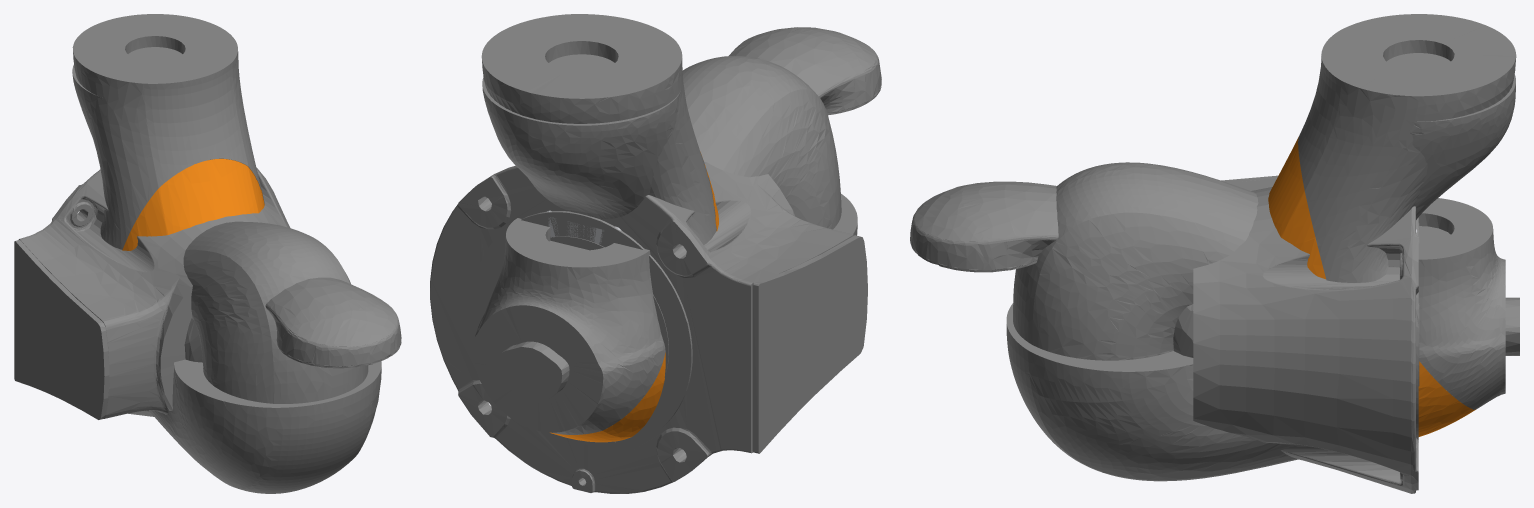
The model's file is arm.glb.
3 renders of one model, left to right at view 1: azimuth 30°, elevation 25°; view 2: azimuth 150°, elevation 25°; view 3: azimuth 270°, elevation 25°, orthographic. The views are drawn at different scales.
Parts seen in each view (by area): view 1: b3, b1, b4, b2, b6, b5; view 2: b1, b7, b3, b4, b5, b6, b2; view 3: b1, b3, b4, b2, b7, b6, b5.
Part boxes in pixels (bbox=[...]): b3: bbox=[72, 14, 264, 250]; b1: bbox=[14, 167, 290, 419]; b4: bbox=[183, 221, 368, 403]; b2: bbox=[149, 359, 381, 493]; b6: bbox=[184, 277, 401, 368]; b5: bbox=[72, 65, 102, 136]; b1: bbox=[430, 161, 867, 493]; b7: bbox=[472, 218, 665, 442]; b3: bbox=[473, 14, 718, 446]; b4: bbox=[682, 55, 841, 229]; b5: bbox=[482, 77, 681, 377]; b6: bbox=[552, 27, 881, 237]; b2: bbox=[473, 194, 857, 446]; b1: bbox=[1193, 175, 1418, 493]; b3: bbox=[1268, 14, 1516, 439]; b4: bbox=[1013, 162, 1258, 360]; b2: bbox=[1006, 303, 1298, 481]; b7: bbox=[1418, 198, 1519, 436]; b6: bbox=[910, 181, 1193, 357]; b5: bbox=[1409, 74, 1515, 385].
Bounding box in the file's own units: 0.2573 × 0.3259 × 0.4261.
